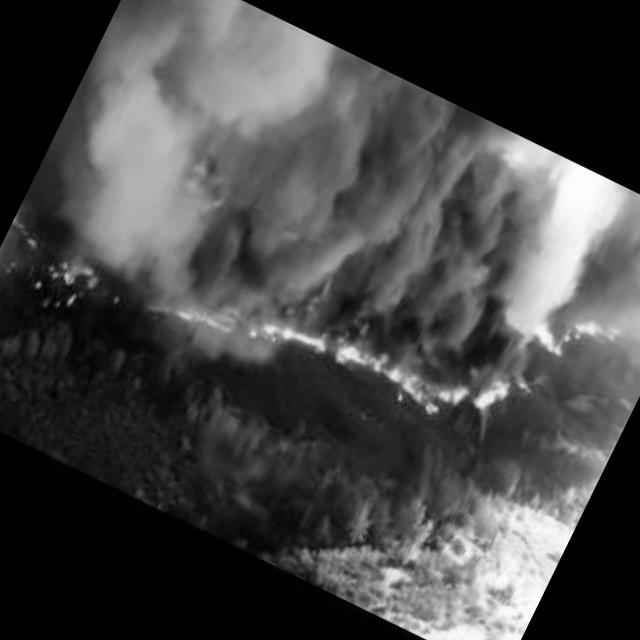fire: (243, 292, 431, 419), (14, 228, 118, 328), (432, 354, 522, 435), (530, 299, 609, 374), (168, 280, 245, 354)
smoke: (46, 0, 617, 383)
